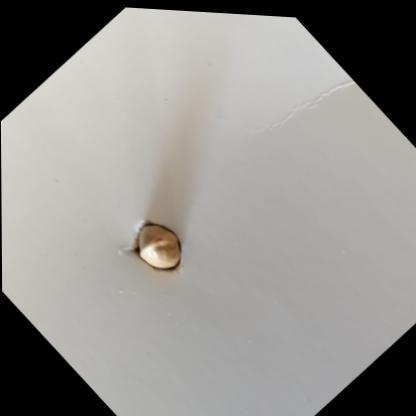pistachio: (123, 217, 185, 278)
